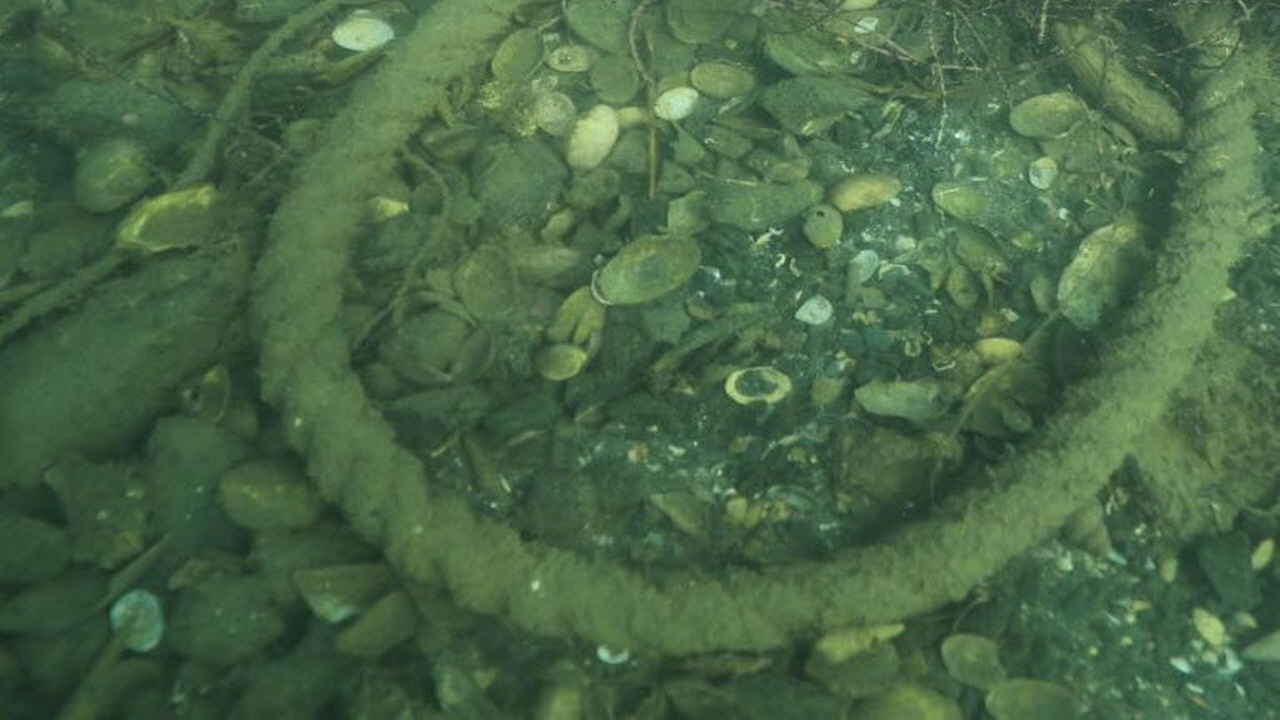rope: (250, 0, 1258, 653)
